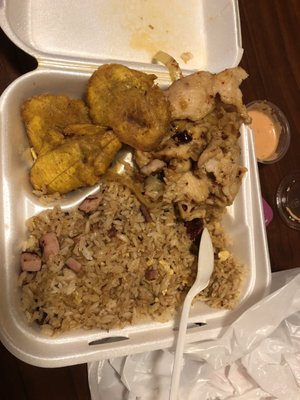burger: (3, 280, 227, 375)
sushi: (1, 63, 292, 393), (0, 0, 245, 77)
